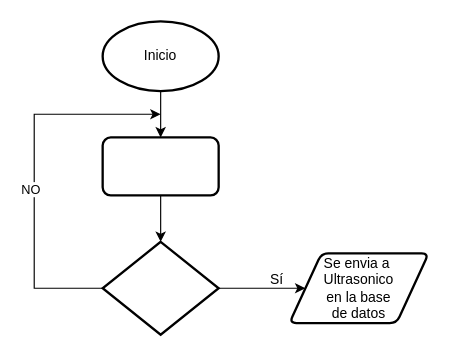
This 449x355 diagram has some shape labels left out. Here are the shapes that lost their labels. From the top down, the centre of each, then its label:
the point at 160,166: Sensor ultrasonico
the point at 160,287: ¿Detectó obstáculo?
